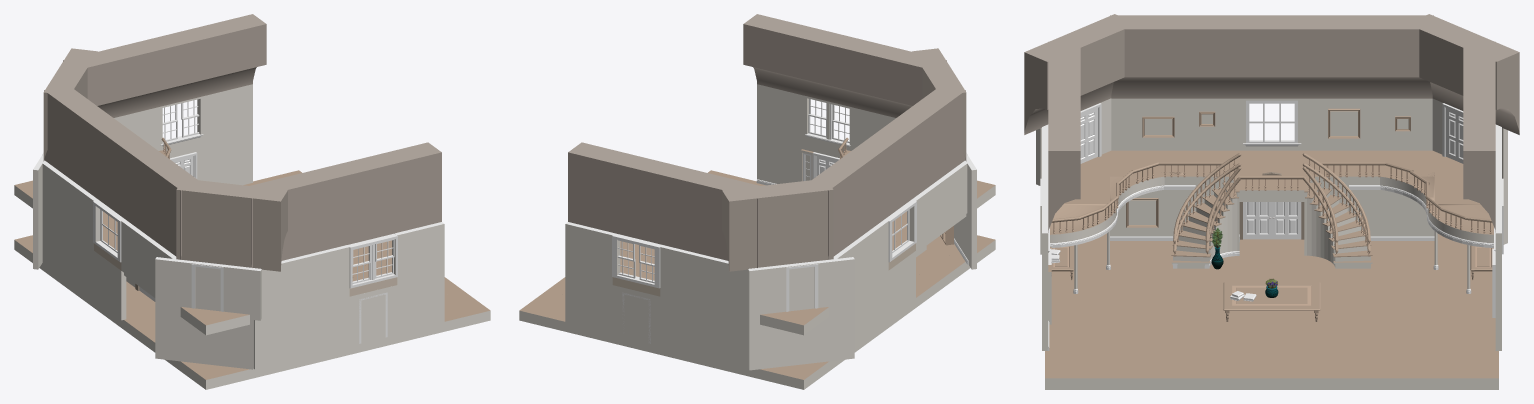
Rendered from Room1-Foyer-merged-extendedfloor.glb.
3 views of the same model, side by side, from view 1: azimuth 30°, elevation 25°; view 2: azimuth 150°, elevation 25°; view 3: azimuth 270°, elevation 25° (orthographic). The views are drawn at different scales.
Visible parts, largest first — view 1: object1.053; view 2: object1.053; view 3: object1.053.
Boxes of the visible parts, x1,y1,x2,y2 form: object1.053: [14, 14, 490, 389]; object1.053: [519, 14, 995, 389]; object1.053: [1024, 14, 1519, 389].
Bounding box in the file's own units: 12.68 × 7.2 × 15.28.
Materials: 63 (5 with a texture image).
